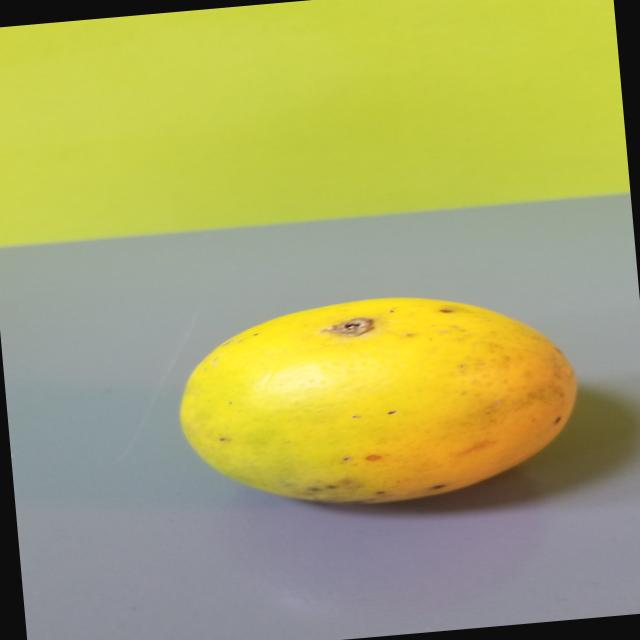Ripe orange: (165, 272, 591, 534)
